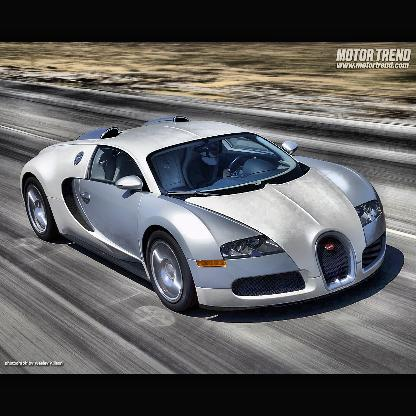Bugatti Veyron 16-4 Coupe 2009: (21, 116, 387, 315)
